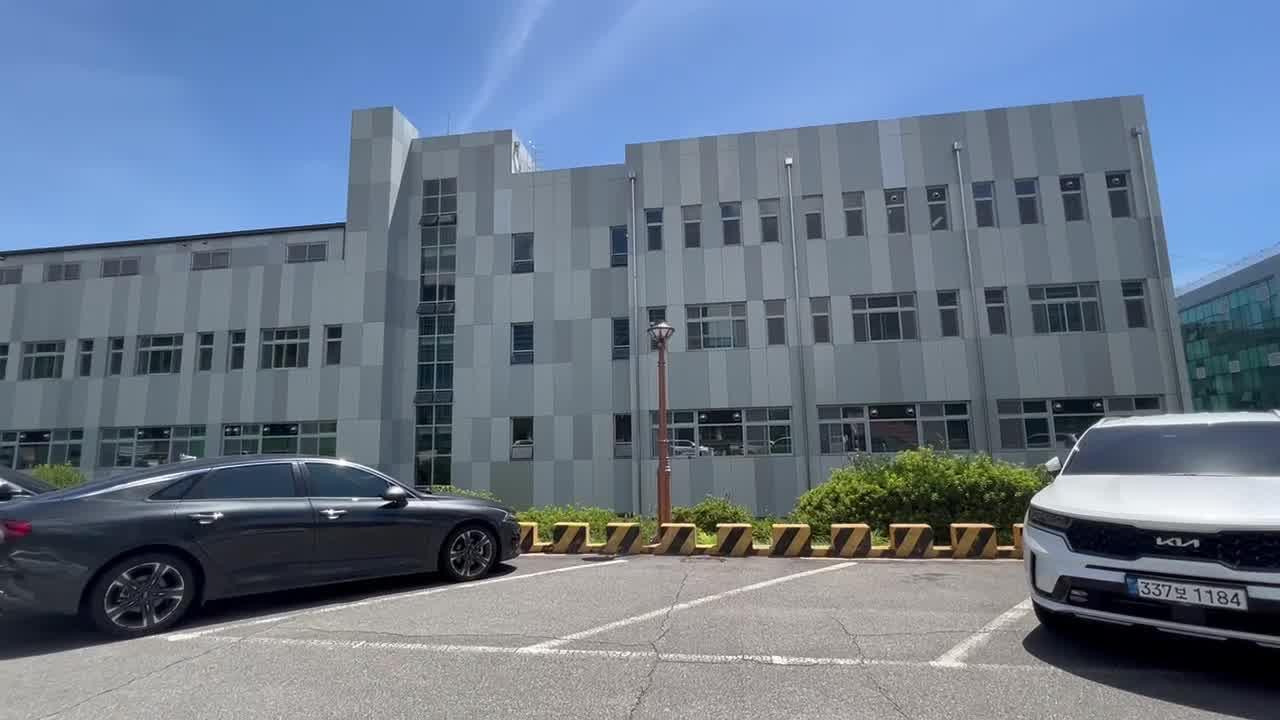building: (31, 96, 1047, 470)
